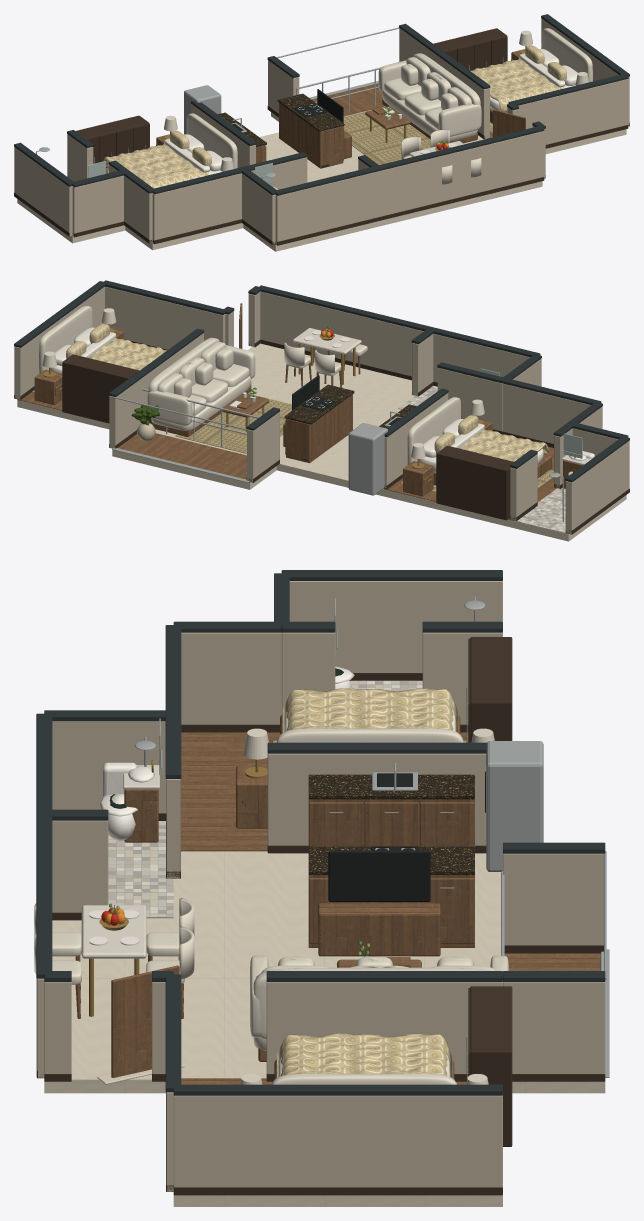
3 views of the same model, one above another, from view 1: azimuth 30°, elevation 25°; view 2: azimuth 150°, elevation 25°; view 3: azimuth 270°, elevation 25° (orthographic). The views are drawn at different scales.
Parts seen in each view (by area): view 1: Ivory masonry.006, Apartment foundation, Ivory masonry.003, Ivory masonry.008, Ivory masonry.011, Ivory masonry.010, Soft jacquard duvet with folds.003, Kitchen cabinetry.001, Living woven carpet, Soft jacquard duvet with folds.004, Charcoal wall cut.006, Ivory masonry.007 (+44 smaller); view 2: Apartment foundation, Ivory masonry.006, Dark fitted wardrobe, Ivory masonry.003, Dark fitted wardrobe.001, Ivory masonry.008, Ivory masonry.011, Kitchen cabinetry.001, Brushed refrigerator, Ivory masonry.016, Living woven carpet, Ivory masonry.002 (+45 smaller); view 3: Apartment foundation, Ivory masonry.002, Ivory masonry.011, Ivory masonry.018, Ivory masonry.009, Ivory masonry, Ivory masonry.001, Ivory masonry.015, Ivory masonry.007, Walnut television console, Soft jacquard duvet with folds.003, Soft jacquard duvet with folds.004 (+46 smaller).
Boxes of the visible parts, box(x1,y1,x2,y2) form: Ivory masonry.006: box(275, 131, 544, 244); Apartment foundation: box(17, 106, 626, 251); Ivory masonry.003: box(518, 79, 628, 144); Ivory masonry.008: box(152, 173, 241, 243); Ivory masonry.011: box(14, 147, 72, 236); Ivory masonry.010: box(72, 175, 123, 236); Soft jacquard duvet with folds.003: box(103, 143, 208, 188); Kitchen cabinetry.001: box(279, 103, 343, 168); Living woven carpet: box(343, 107, 430, 164); Soft jacquard duvet with folds.004: box(470, 58, 563, 112); Charcoal wall cut.006: box(274, 126, 544, 195); Ivory masonry.007: box(242, 173, 275, 244); Apartment foundation: box(17, 343, 626, 541); Ivory masonry.006: box(260, 291, 529, 382); Dark fitted wardrobe: box(436, 445, 513, 520); Ivory masonry.003: box(105, 286, 225, 349); Dark fitted wardrobe.001: box(62, 354, 139, 423); Ivory masonry.008: box(503, 383, 591, 443); Ivory masonry.011: box(565, 441, 629, 534); Kitchen cabinetry.001: box(286, 394, 352, 463); Brushed refrigerator: box(348, 423, 387, 495); Ivory masonry.016: box(437, 368, 502, 431); Living woven carpet: box(175, 393, 291, 453); Ivory masonry.002: box(14, 287, 104, 399); Apartment foundation: box(44, 851, 605, 1206); Ivory masonry.002: box(173, 1095, 502, 1187); Ivory masonry.011: box(289, 581, 502, 672); Ivory masonry.018: box(266, 981, 502, 1073); Ivory masonry.009: box(181, 632, 281, 724); Ivory masonry: box(503, 853, 603, 945); Ivory masonry.001: box(503, 982, 605, 1073); Ivory masonry.015: box(267, 753, 486, 845); Ivory masonry.007: box(52, 721, 166, 813); Walnut television console: box(318, 902, 440, 956); Soft jacquard duvet with folds.003: box(282, 688, 457, 732); Soft jacquard duvet with folds.004: box(277, 1033, 451, 1077).
Size of the model in its own units: 12.32 by 1.37 by 5.75.
Materials: 24 (6 with a texture image).
